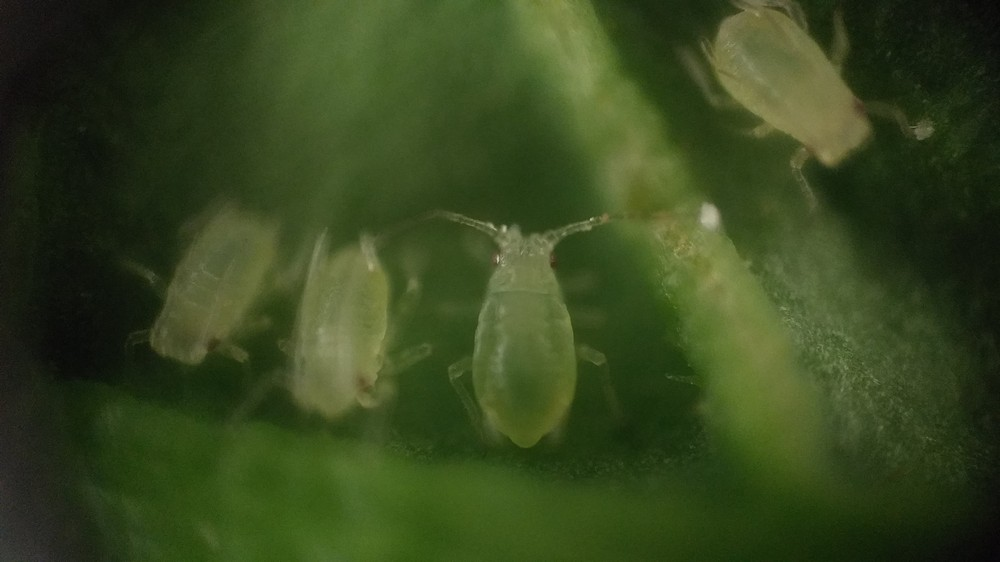Pulgon: (423, 192, 659, 463), (672, 3, 947, 220), (269, 203, 430, 442), (116, 174, 283, 402)
